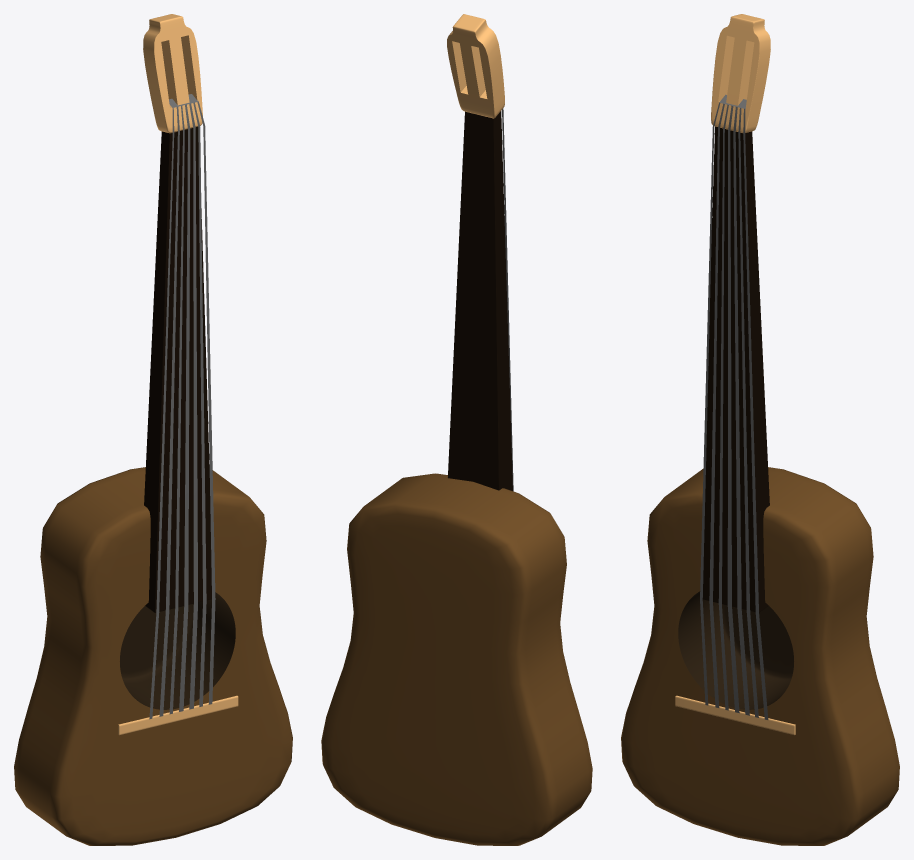
File: Guitar.obj
The picture shows the model from 3 angles, left to right: view 1: azimuth 30°, elevation 25°; view 2: azimuth 150°, elevation 25°; view 3: azimuth 330°, elevation 25°; orthographic projection. The views are drawn at different scales.
Parts seen in each view (by area): view 1: polySurface6 polySurface12 polySurface7, polySurface8 polySurface6, pCube4, polySurface13, polySurface6 polySurface10, polySurface6 polySurface9; view 2: polySurface6 polySurface12 polySurface7, polySurface8 polySurface6, polySurface6 polySurface10, pCube4; view 3: polySurface6 polySurface12 polySurface7, polySurface8 polySurface6, pCube4, polySurface13, polySurface6 polySurface10, polySurface6 polySurface9.
Part boxes in pixels (x1,y1,x2,y2): polySurface6 polySurface12 polySurface7: (14, 467, 292, 845); polySurface8 polySurface6: (144, 126, 211, 612); pCube4: (149, 94, 215, 719); polySurface13: (120, 592, 235, 709); polySurface6 polySurface10: (143, 14, 202, 133); polySurface6 polySurface9: (118, 695, 238, 735); polySurface6 polySurface12 polySurface7: (321, 473, 592, 845); polySurface8 polySurface6: (448, 111, 512, 490); polySurface6 polySurface10: (447, 14, 504, 118); pCube4: (502, 108, 513, 491); polySurface6 polySurface12 polySurface7: (621, 467, 899, 845); polySurface8 polySurface6: (702, 126, 769, 612); pCube4: (700, 94, 768, 719); polySurface13: (678, 591, 793, 709); polySurface6 polySurface10: (711, 14, 770, 132); polySurface6 polySurface9: (675, 695, 795, 735).
Bounding box in the file's own units: 2.03 × 6.62 × 0.8597.
